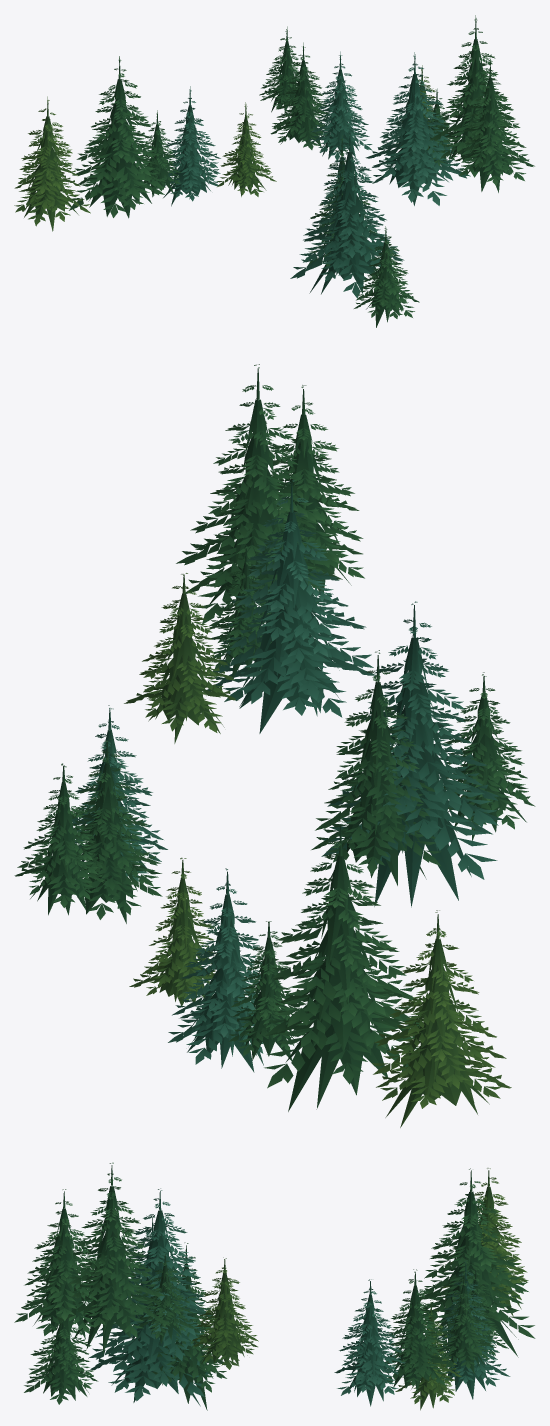
3 views of the same model, one above another, from view 1: azimuth 30°, elevation 25°; view 2: azimuth 150°, elevation 25°; view 3: azimuth 270°, elevation 25° (orthographic). The views are drawn at different scales.
Visible parts, largest first — view 1: pn_2; view 2: pn_2; view 3: pn_2.
Part boxes in pixels (<box>): pn_2: <box>14,15,534,327</box>; pn_2: <box>14,364,535,1127</box>; pn_2: <box>14,1162,535,1410</box>.
Bounding box in the file's own units: 37.7 × 28.41 × 43.25.
1 material, 1 textured.
